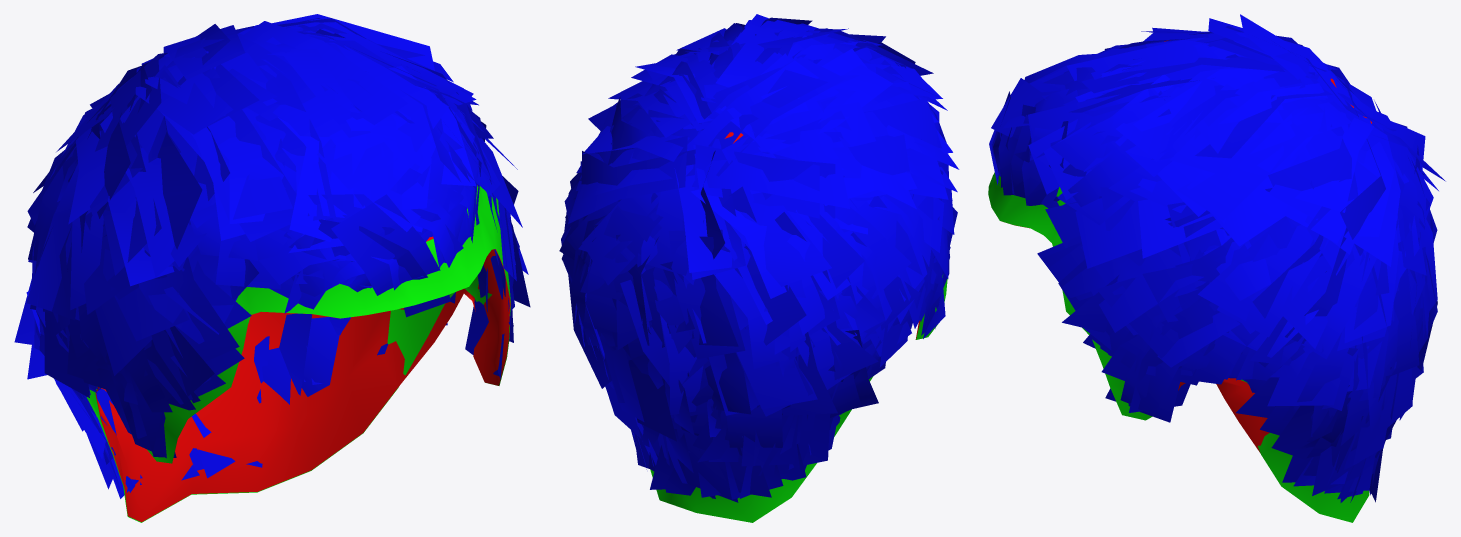
Rendered from hair_010.obj.
3 renders of one model, left to right at view 1: azimuth 30°, elevation 25°; view 2: azimuth 150°, elevation 25°; view 3: azimuth 270°, elevation 25°, orthographic. The views are drawn at different scales.
Size of the model in its own units: 18.47 by 21.4 by 19.47.
